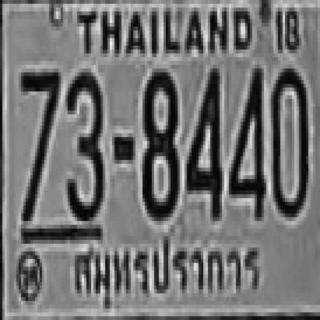N00: (270, 65, 307, 213)
N03: (65, 68, 103, 221)
N04: (227, 65, 264, 217), (184, 65, 220, 217)
N07: (19, 68, 58, 221), (19, 68, 58, 179)
N08: (140, 68, 177, 217)
P57: (69, 243, 267, 306)
